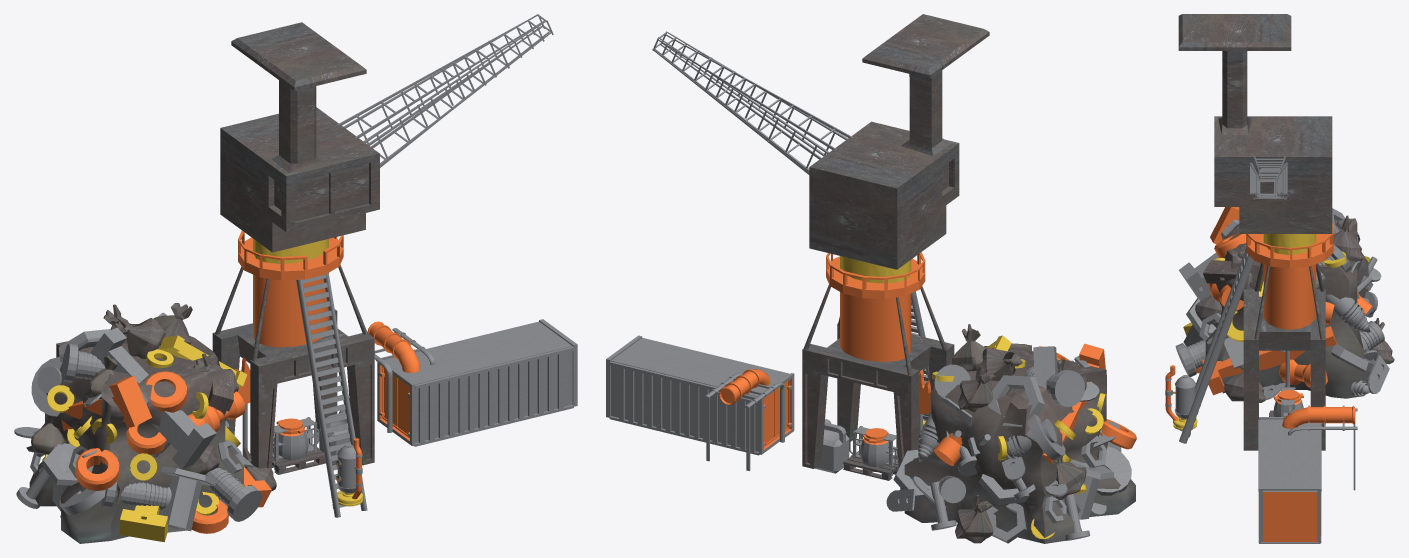
File: props.fbx
3 views of the same model, side by side, from view 1: azimuth 30°, elevation 25°; view 2: azimuth 150°, elevation 25°; view 3: azimuth 270°, elevation 25° (orthographic). The views are drawn at different scales.
Visible parts, largest first — view 1: grue, Pile_dechet, contener, tuyaux_1, machine_2, container, wooden_plate; view 2: grue, Pile_dechet, contener, tuyaux_1, square_container, container, wooden_plate; view 3: grue, Pile_dechet, contener, tuyaux_1, machine_2, container.
Boxes of the visible parts, bbox=[...] form: grue: bbox=[212, 14, 553, 517]; Pile_dechet: bbox=[14, 303, 276, 543]; contener: bbox=[377, 319, 577, 446]; tuyaux_1: bbox=[367, 321, 435, 432]; machine_2: bbox=[336, 438, 363, 506]; container: bbox=[276, 418, 308, 464]; wooden_plate: bbox=[271, 443, 325, 474]; grue: bbox=[652, 14, 989, 489]; Pile_dechet: bbox=[886, 324, 1136, 543]; contener: bbox=[606, 335, 794, 455]; tuyaux_1: bbox=[704, 369, 784, 471]; square_container: bbox=[814, 419, 849, 473]; container: bbox=[860, 428, 888, 471]; wooden_plate: bbox=[843, 451, 898, 480]; grue: bbox=[1178, 14, 1333, 450]; Pile_dechet: bbox=[1175, 207, 1394, 402]; contener: bbox=[1258, 417, 1321, 543]; tuyaux_1: bbox=[1282, 405, 1357, 490]; machine_2: bbox=[1165, 365, 1197, 430]; container: bbox=[1273, 389, 1303, 416].
Bounding box in the file's own units: 2666 × 2194 × 1142.
Materials: 1 (1 with a texture image).
